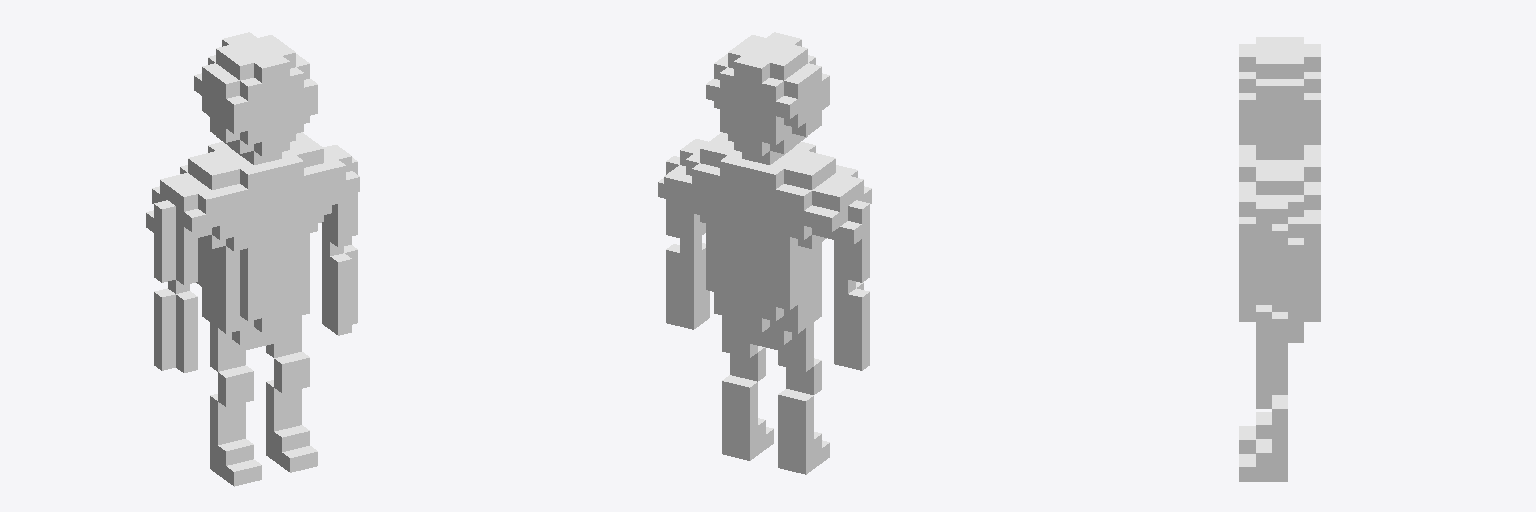
Rendered from Men.obj.
The picture shows the model from 3 angles: view 1: azimuth 30°, elevation 25°; view 2: azimuth 150°, elevation 25°; view 3: azimuth 270°, elevation 25°; orthographic projection.
Parts seen in each view (by area): view 1: object 1; view 2: object 1; view 3: object 1.
Part boxes in pixels (x1,y1,x2,y2): object 1: (146,32,359,486); object 1: (658,32,871,474); object 1: (1239,37,1320,481).
Bounding box in the file's own units: 1.4 × 2.8 × 0.5.